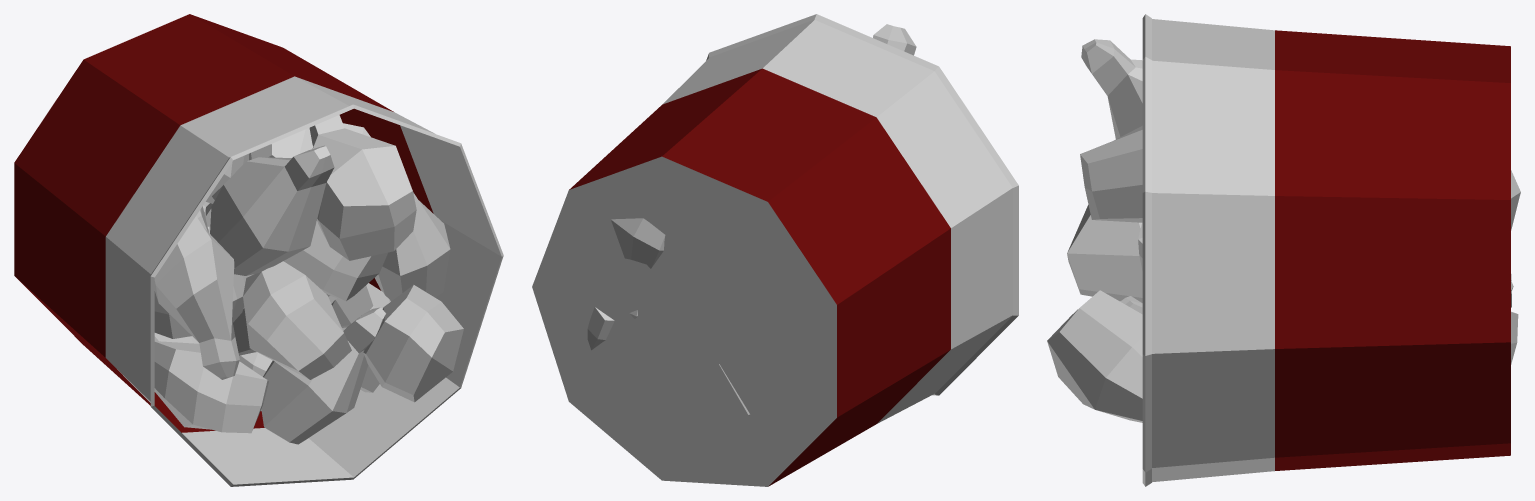
Rendered from KFC.obj.
3 views of the same model, side by side, from view 1: azimuth 30°, elevation 25°; view 2: azimuth 150°, elevation 25°; view 3: azimuth 270°, elevation 25° (orthographic). The views are drawn at different scales.
Parts seen in each view (by area): view 1: Cube_chicken_0, Cube_white_0, Cube_red_0; view 2: Cube_white_0, Cube_red_0, Cube_chicken_0; view 3: Cube_red_0, Cube_white_0, Cube_chicken_0.
Part boxes in pixels (left/top/right/bottom): Cube_chicken_0: left=154, top=115, right=463, bottom=444; Cube_white_0: left=105, top=76, right=503, bottom=486; Cube_red_0: left=14, top=14, right=433, bottom=432; Cube_white_0: left=532, top=14, right=1018, bottom=486; Cube_red_0: left=569, top=68, right=950, bottom=486; Cube_chicken_0: left=587, top=24, right=916, bottom=415; Cube_red_0: left=1275, top=30, right=1510, bottom=470; Cube_white_0: left=1142, top=14, right=1274, bottom=486; Cube_chicken_0: left=1047, top=39, right=1520, bottom=422.
Bounding box in the file's own units: 1.97 × 2 × 2.
